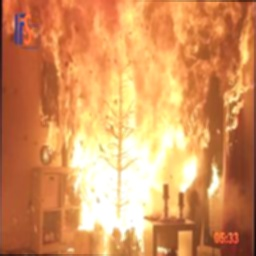fire: (0, 0, 256, 221)
